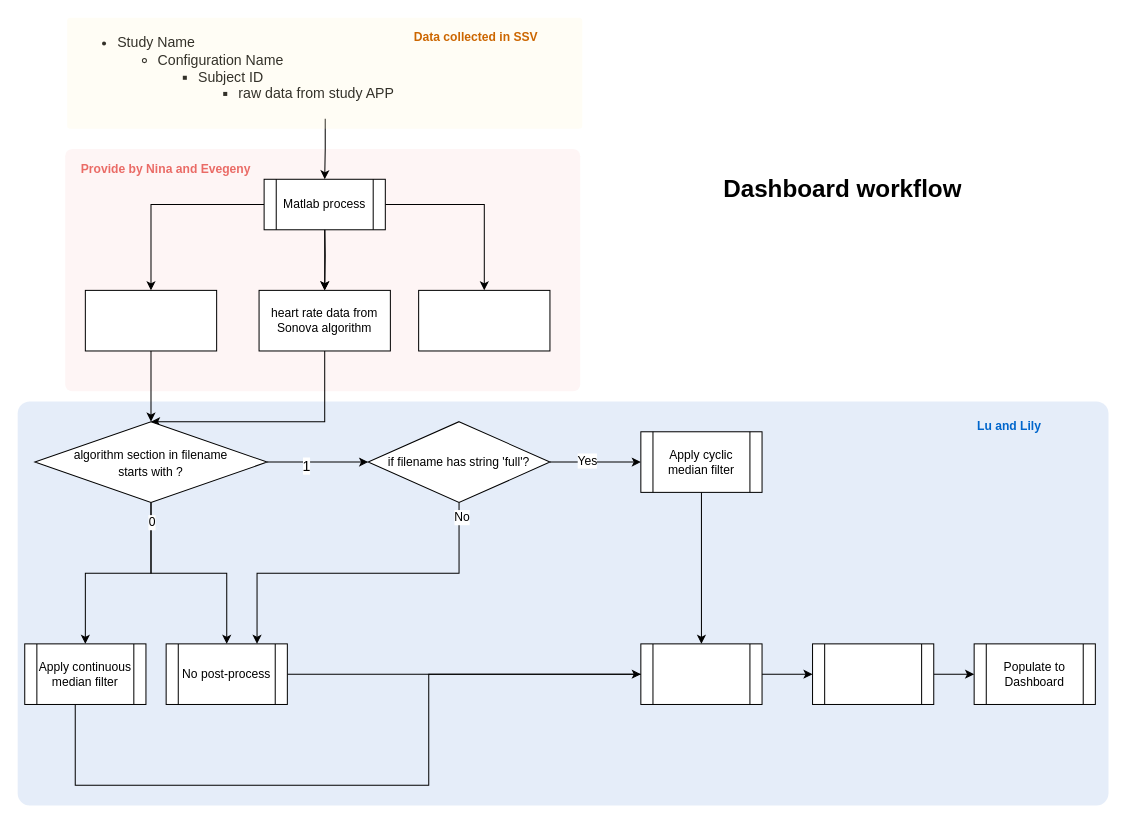
Some shapes in this 1125 by 822 pixel diagram are drawn without their labels. The shapes that lost their labels are listed below. From the top down, each one's centre as x and y in pixels, then its label:
At (150,320): "heart rate data from Cosinuss algorithm".
At (484,320): "activity data in json file".
At (701,673): "Concatenate to a joint heart rate table".
At (873,673): "Calculate MAPE and DA".
